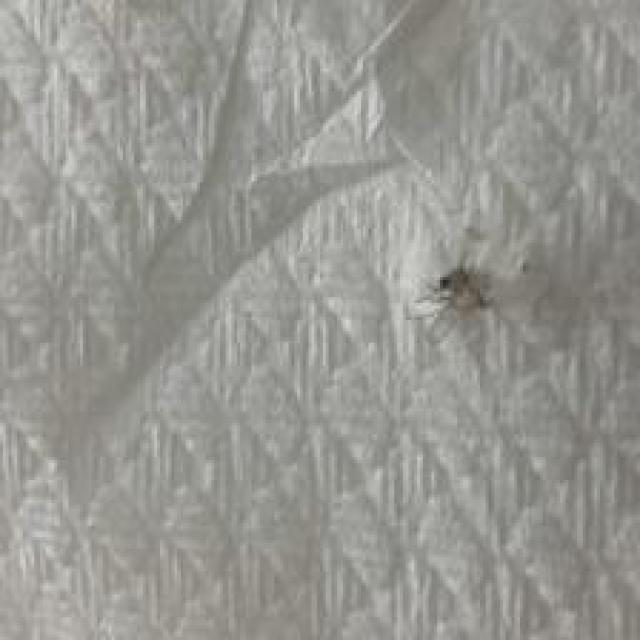Culex: (407, 263, 496, 323)
